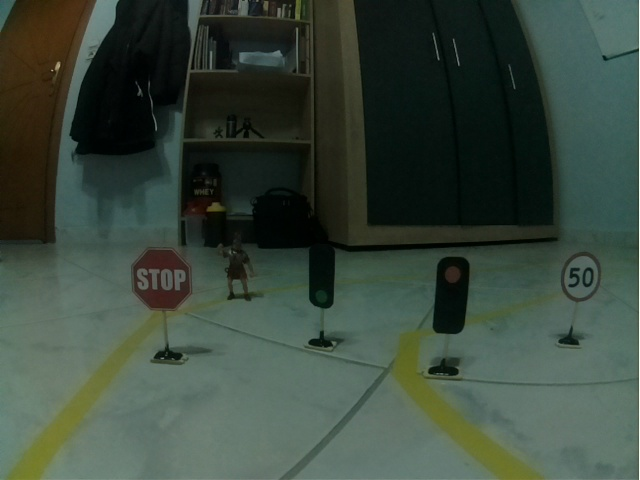Green Traffic Light: (308, 244, 336, 309)
Person: (216, 232, 257, 302)
Red Traffic Light: (432, 256, 471, 335)
Speed Limit 50: (560, 251, 602, 303)
Stop: (130, 247, 193, 311)
